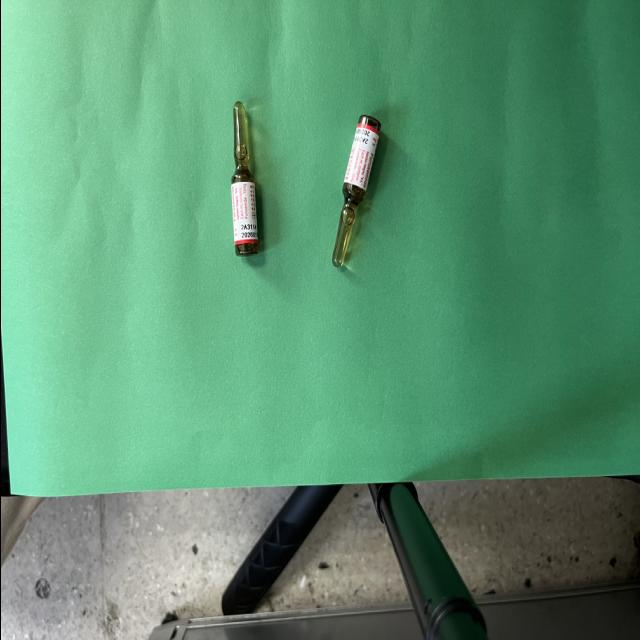Ampoules: (331, 114, 382, 267), (230, 101, 258, 257)
